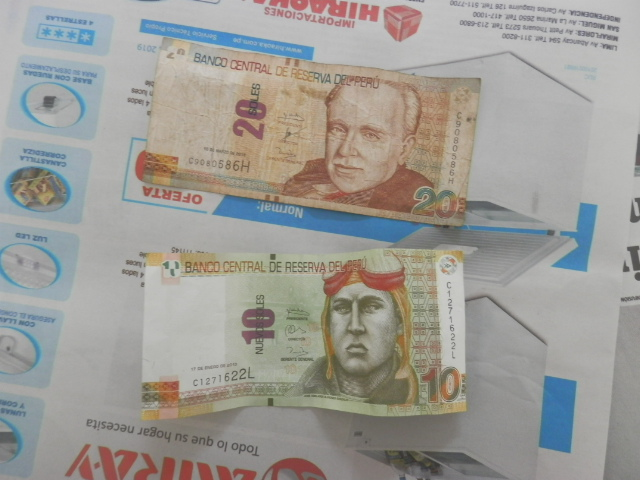B10: (136, 249, 476, 421)
B20: (145, 39, 489, 239)
